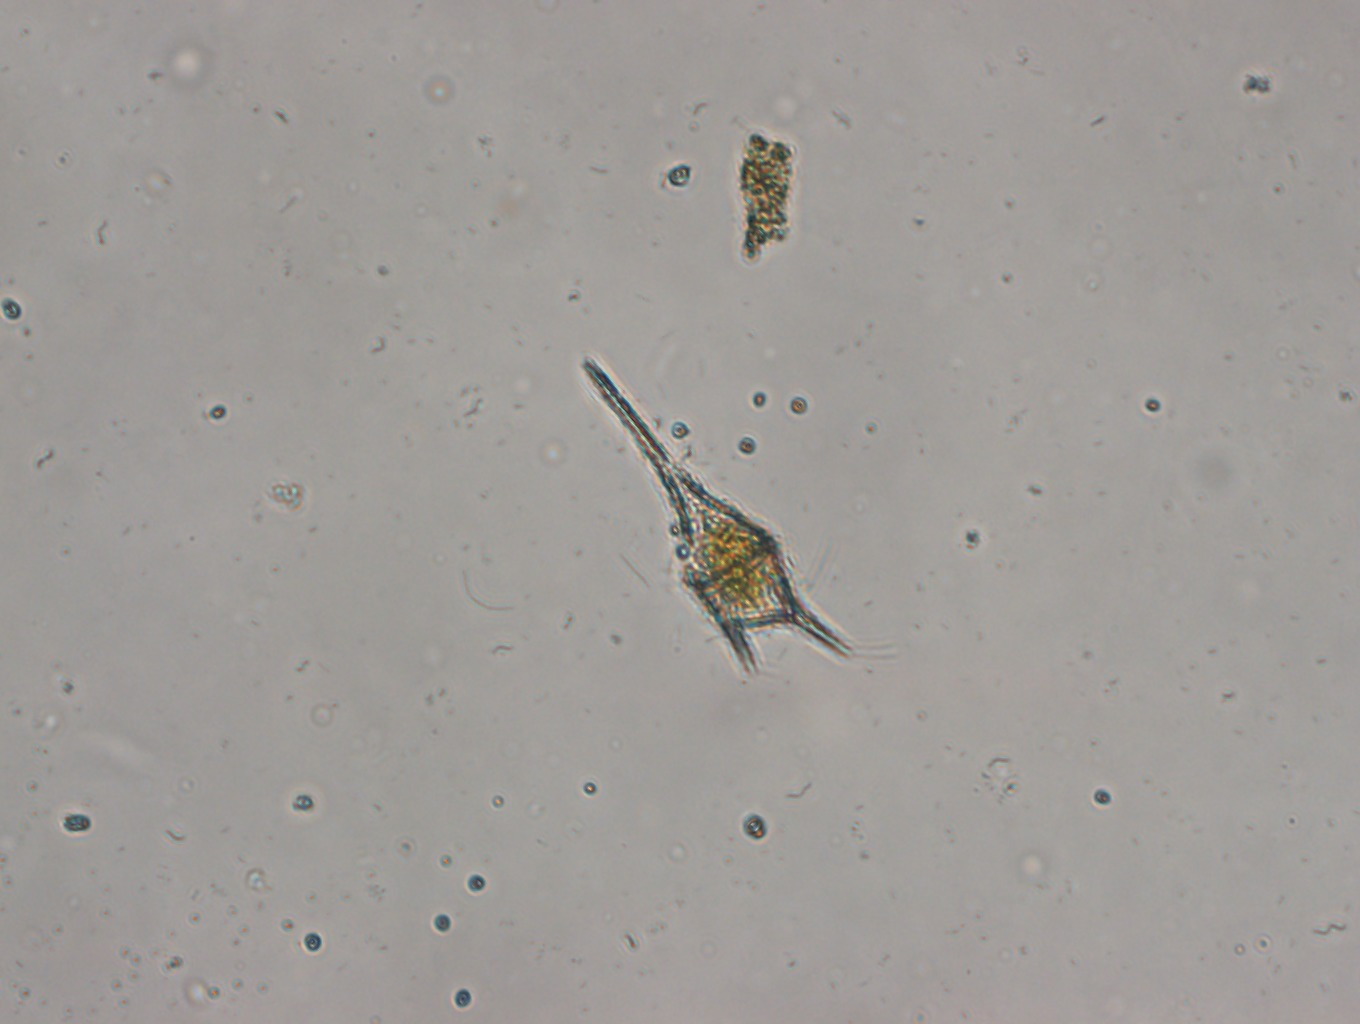ceratium furca: (573, 353, 856, 680)
